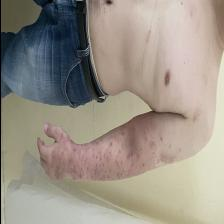DA: (138, 124, 172, 167), (89, 143, 121, 179)
